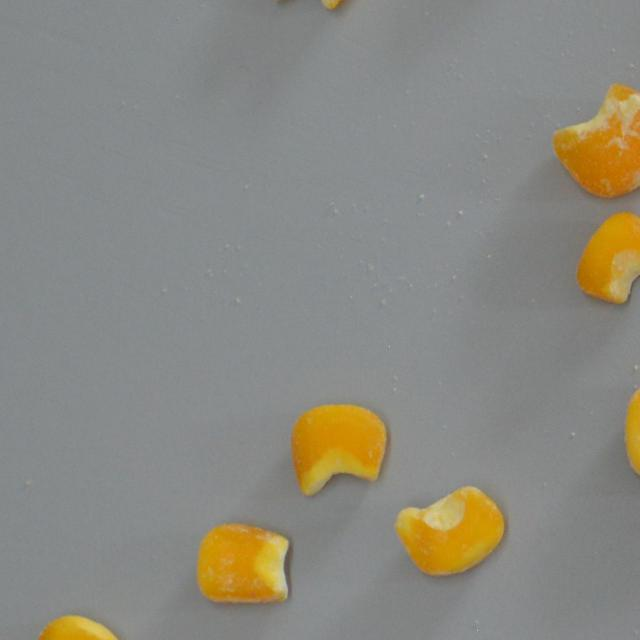no_canjicado: (394, 484, 504, 576), (292, 402, 388, 496), (575, 210, 640, 306), (24, 614, 126, 640), (624, 378, 640, 489)
pelicula: (552, 78, 640, 200), (194, 522, 288, 604)
